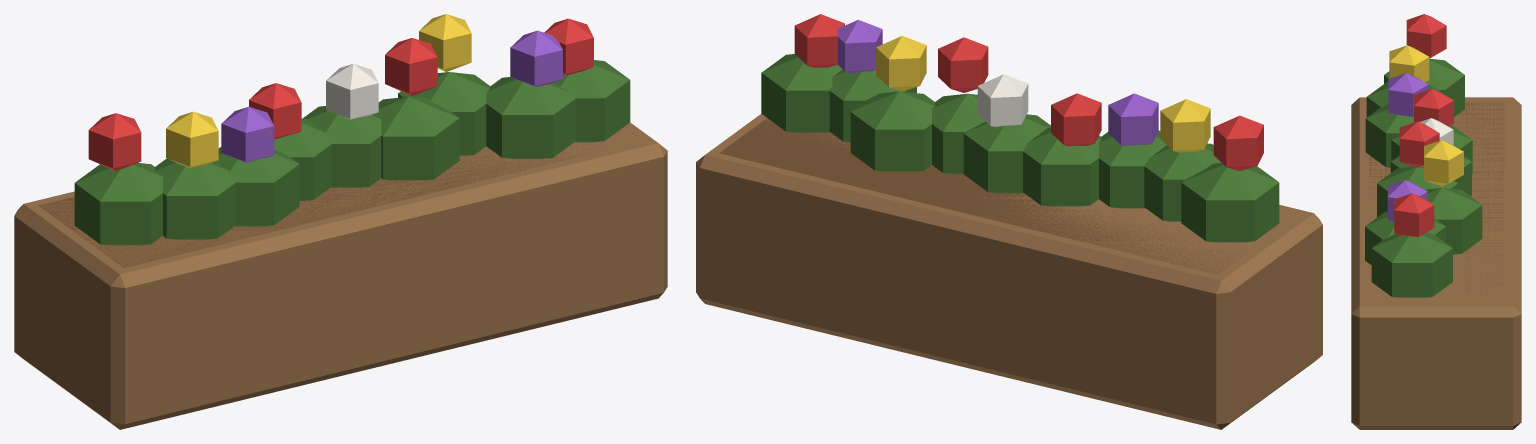
The model's file is flower_box.gltf.
3 renders of one model, left to right at view 1: azimuth 30°, elevation 25°; view 2: azimuth 150°, elevation 25°; view 3: azimuth 270°, elevation 25°, orthographic. The views are drawn at different scales.
Visible parts, largest first — view 1: flower_box; view 2: flower_box; view 3: flower_box.
Boxes of the visible parts, box(x1,y1,x2,y2) form: flower_box: box(14, 14, 667, 429); flower_box: box(696, 14, 1322, 429); flower_box: box(1351, 14, 1521, 429).
Size of the model in its own units: 1.2 by 0.5888 by 0.4.
